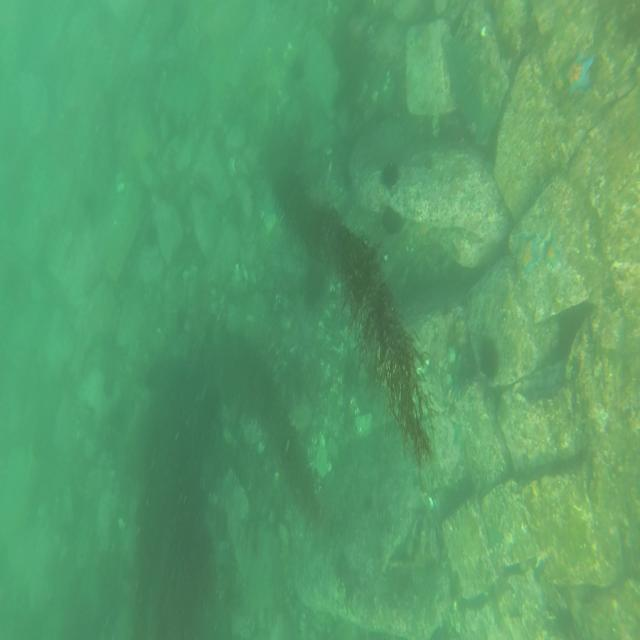echinus: (451, 343, 476, 391), (478, 336, 501, 380), (380, 204, 403, 238), (379, 160, 400, 189)
starfish: (563, 50, 595, 94), (513, 229, 538, 274), (541, 234, 559, 270)
